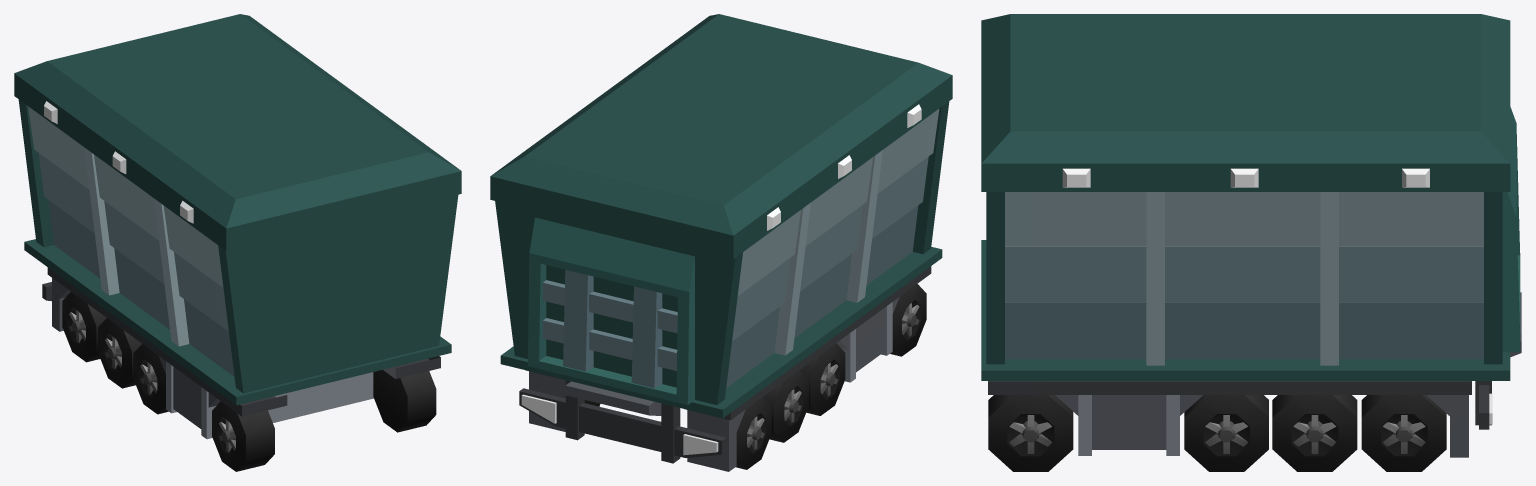
Rendered from cargo_04_B_1.fbx.
3 renders of one model, left to right at view 1: azimuth 30°, elevation 25°; view 2: azimuth 150°, elevation 25°; view 3: azimuth 270°, elevation 25°, orthographic. The views are drawn at different scales.
Parts seen in each view (by area): view 1: cargo_04_B_1; view 2: cargo_04_B_1; view 3: cargo_04_B_1.
Boxes of the visible parts, x1=… form: cargo_04_B_1: x1=14, y1=14, x2=461, y2=471; cargo_04_B_1: x1=490, y1=14, x2=952, y2=471; cargo_04_B_1: x1=981, y1=14, x2=1521, y2=471.
Bounding box in the file's own units: 16.04 × 17.21 × 24.68.
